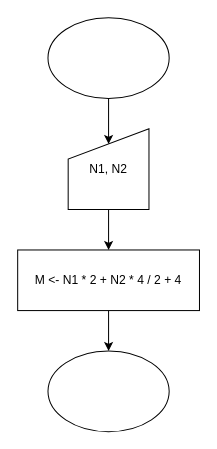
Some shapes in this 217 by 449 pixel diagram are drawn without their labels. Here are the shapes that lost their labels. From the top down, the box of each, then its label:
(47, 17, 169, 98): Inicio
(47, 350, 169, 432): Fim
